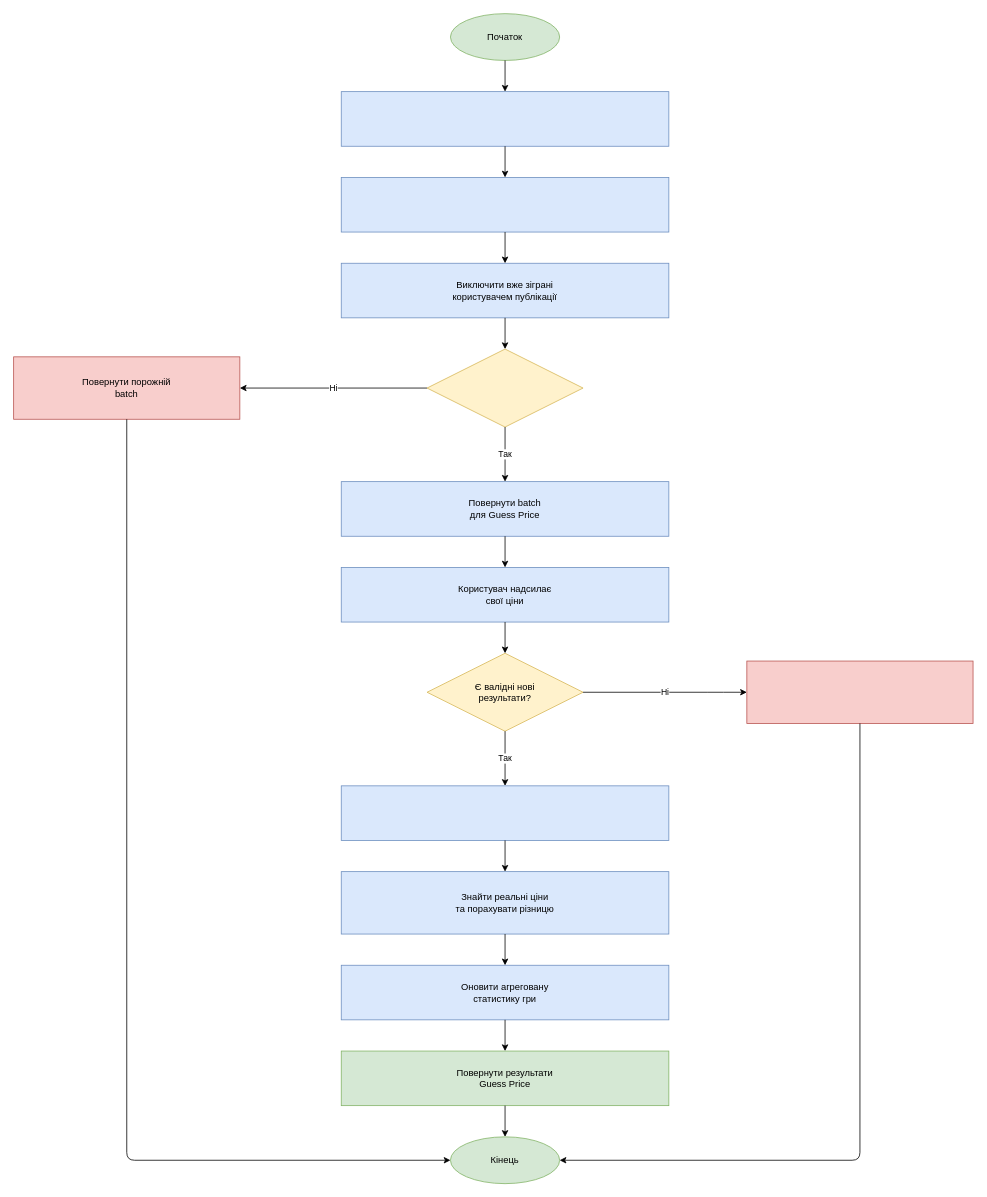
This 987x1197 diagram has some shape labels left out. The shapes that lost their labels are listed below. From the top down, each one's box as (x1, y1, x2, y2) in pixels, then its label:
(340, 91, 669, 146): Користувач відкриває гру Guess Price
(340, 177, 669, 232): Система формує batch доступних публікацій
(426, 348, 583, 427): Є публікації для гри?
(746, 660, 973, 723): Повернути порожній результат
(340, 785, 669, 840): Записати історію проходження гри
